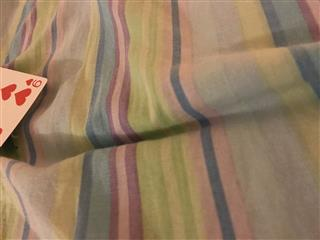NineOfHearts: (1, 65, 47, 148)
